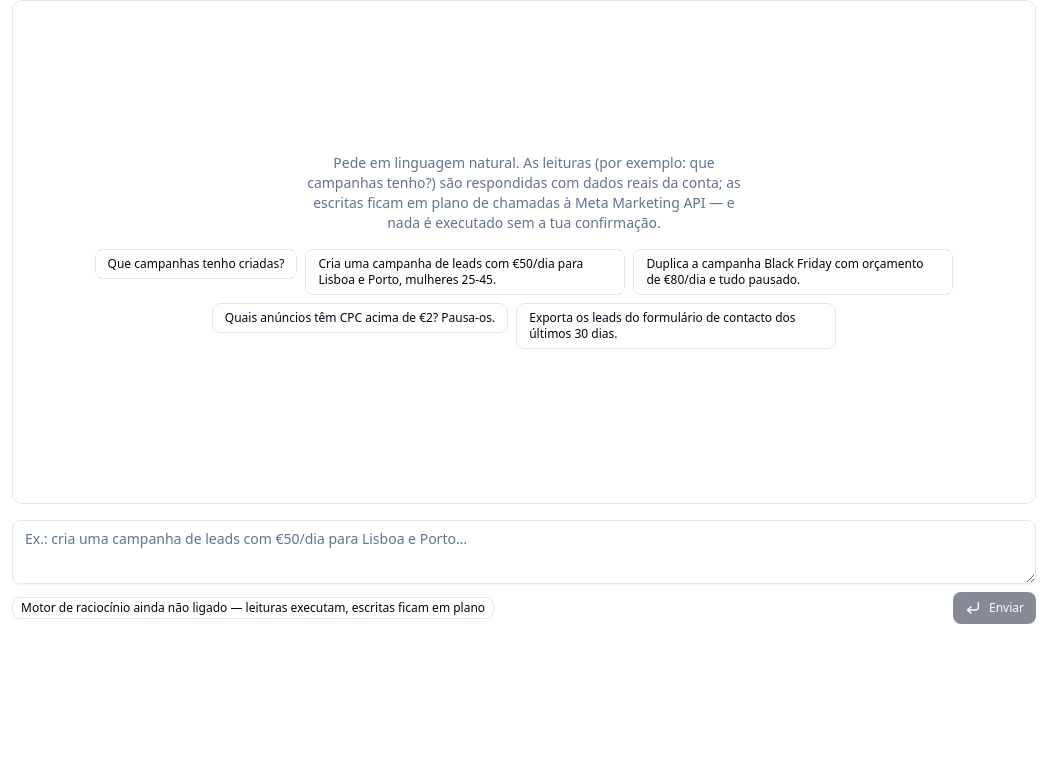
Test: ChatPanel › surfaces a rejected request as an alert
Type "x" into the text box named "Mensagem para o agente" at (524, 552), box [12, 520, 1036, 584]
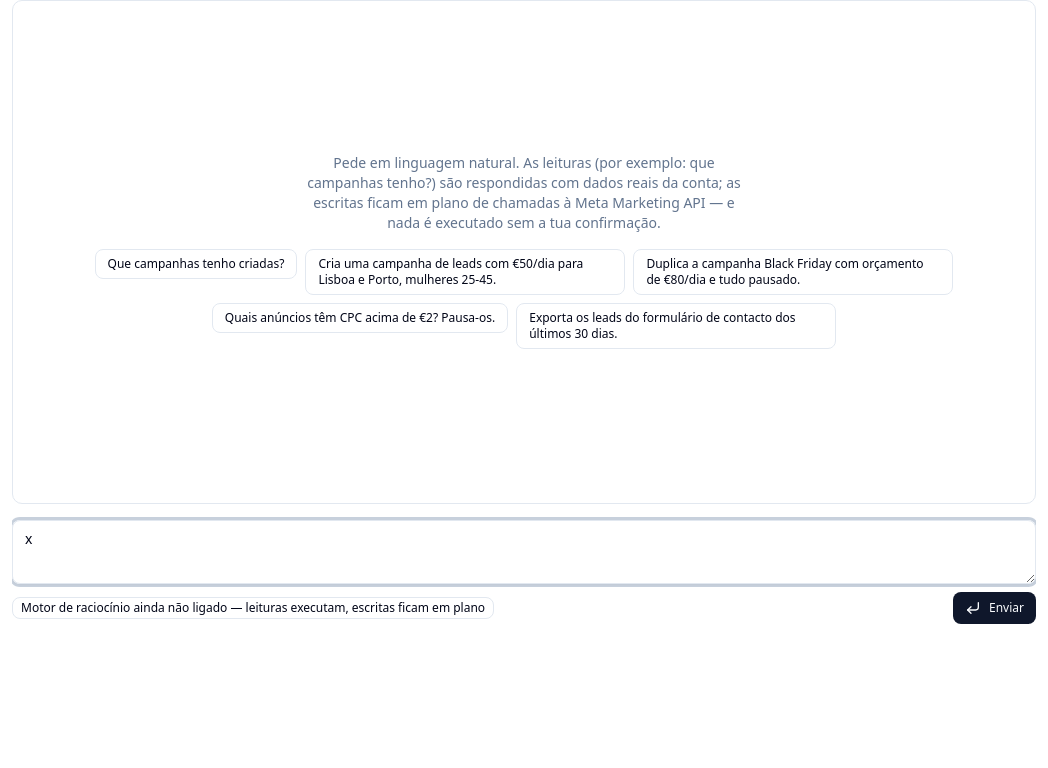
Click the button "Enviar" at (994, 608), box [953, 592, 1036, 624]
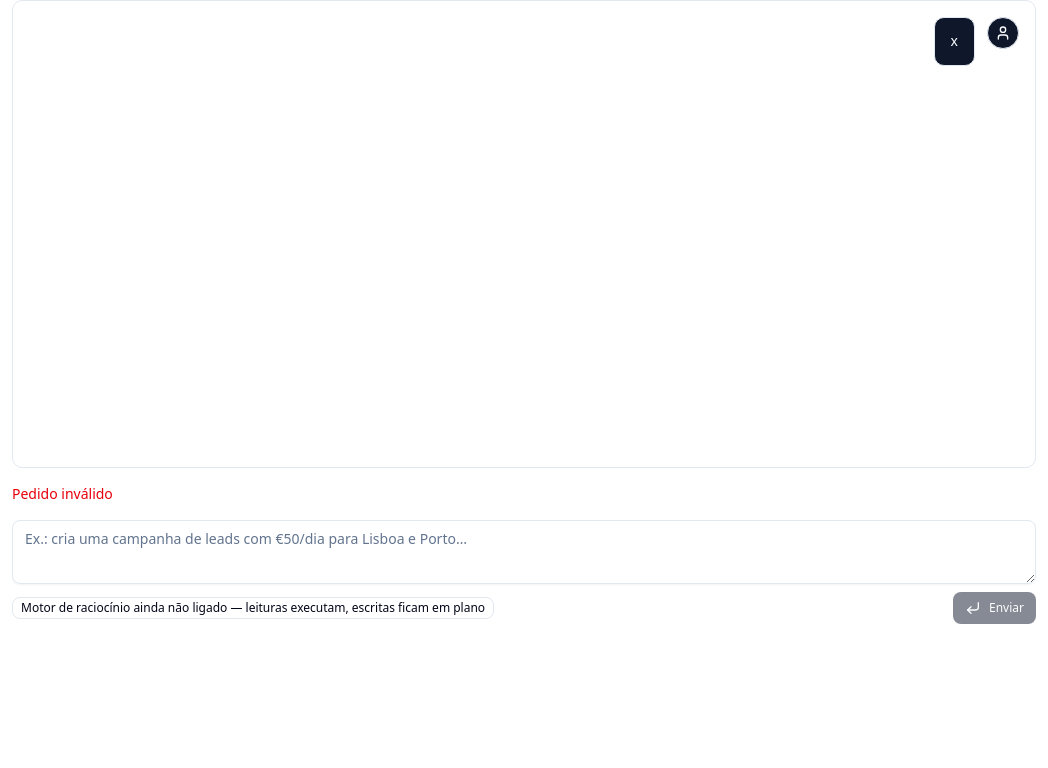
Expected: the message reads "Pedido inválido", [12, 484, 113, 503]
